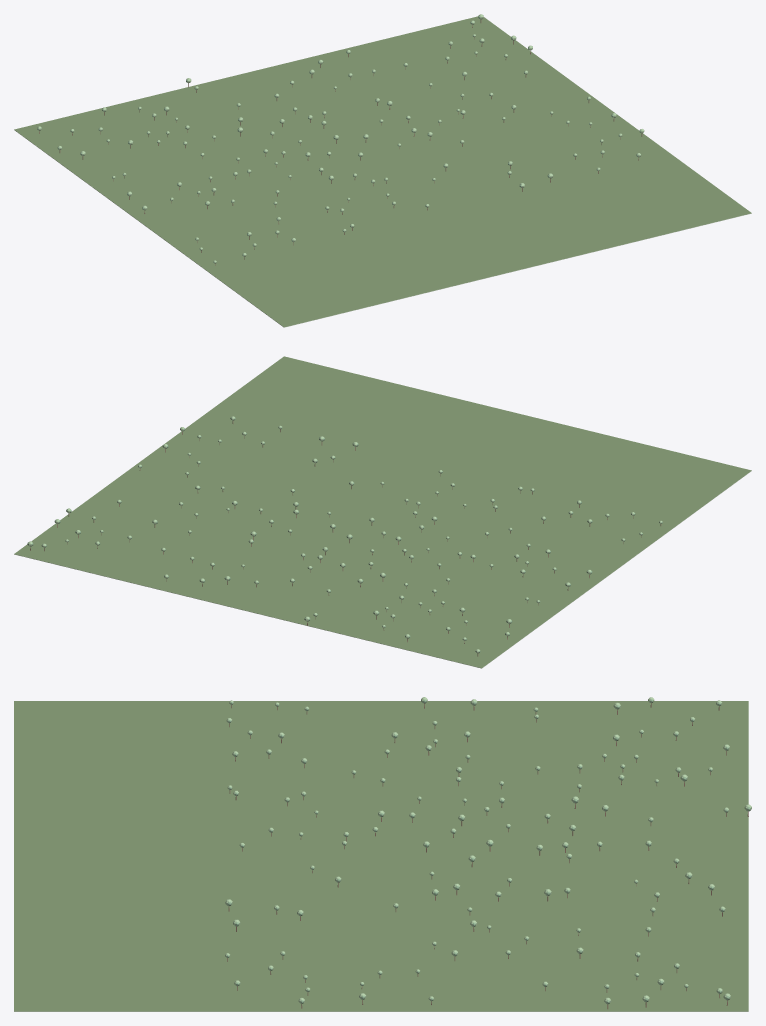
File: chunk_6_7_high.glb
The picture shows the model from 3 angles, top to bottom: view 1: azimuth 30°, elevation 25°; view 2: azimuth 150°, elevation 25°; view 3: azimuth 270°, elevation 25°; orthographic projection. The views are drawn at different scales.
Parts seen in each view (by area): view 1: city_forest_floor, city_foliage, city_grass, city_foliage_dark; view 2: city_forest_floor, city_foliage, city_foliage_dark, city_grass; view 3: city_forest_floor, city_foliage, city_foliage_dark, city_bark, city_grass.
Boxes of the visible parts, x1,y1,x2,y2 form: city_forest_floor: (14, 16, 751, 327); city_foliage: (37, 14, 644, 263); city_grass: (14, 130, 751, 327); city_foliage_dark: (37, 15, 640, 262); city_forest_floor: (14, 356, 751, 668); city_foliage: (28, 416, 662, 653); city_foliage_dark: (27, 417, 662, 652); city_grass: (14, 471, 751, 668); city_forest_floor: (14, 701, 748, 1011); city_foliage: (225, 697, 751, 1004); city_foliage_dark: (226, 699, 750, 1003); city_bark: (227, 703, 748, 1009); city_grass: (14, 1011, 748, 1011).
Bounding box in the file's own units: 512 × 9.76 × 514.
